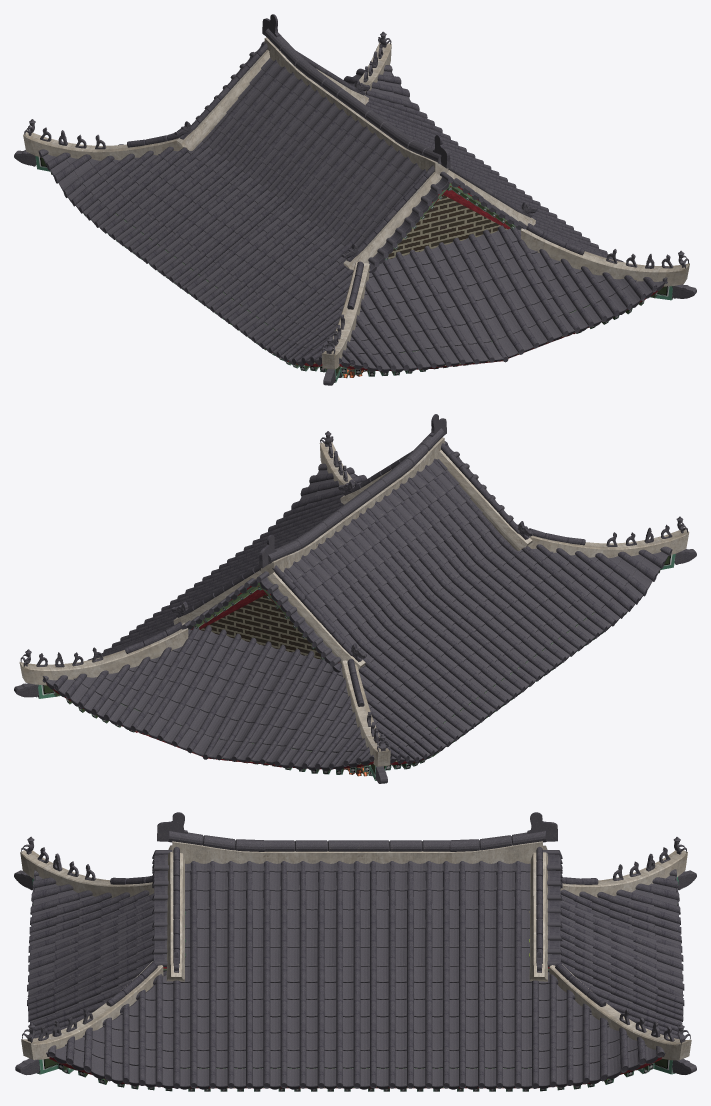
The model's file is SM_R_Sinpungru.fbx.
3 views of the same model, one above another, from view 1: azimuth 30°, elevation 25°; view 2: azimuth 150°, elevation 25°; view 3: azimuth 270°, elevation 25° (orthographic). The views are drawn at different scales.
Parts seen in each view (by area): view 1: SM_R_Sinpungru; view 2: SM_R_Sinpungru; view 3: SM_R_Sinpungru.
Part boxes in pixels (box(x1,y1,x2,y2)): SM_R_Sinpungru: box(14, 14, 696, 385); SM_R_Sinpungru: box(14, 414, 696, 783); SM_R_Sinpungru: box(14, 812, 696, 1091).
Size of the model in its own units: 1351 by 1965 by 772.
Materials: 9 (9 with a texture image).
